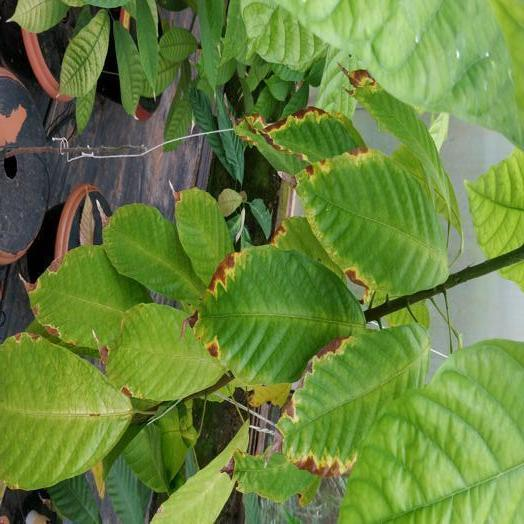Potassium: (194, 245, 364, 383), (278, 324, 428, 475), (292, 150, 447, 295), (19, 245, 151, 352), (237, 107, 364, 174)
